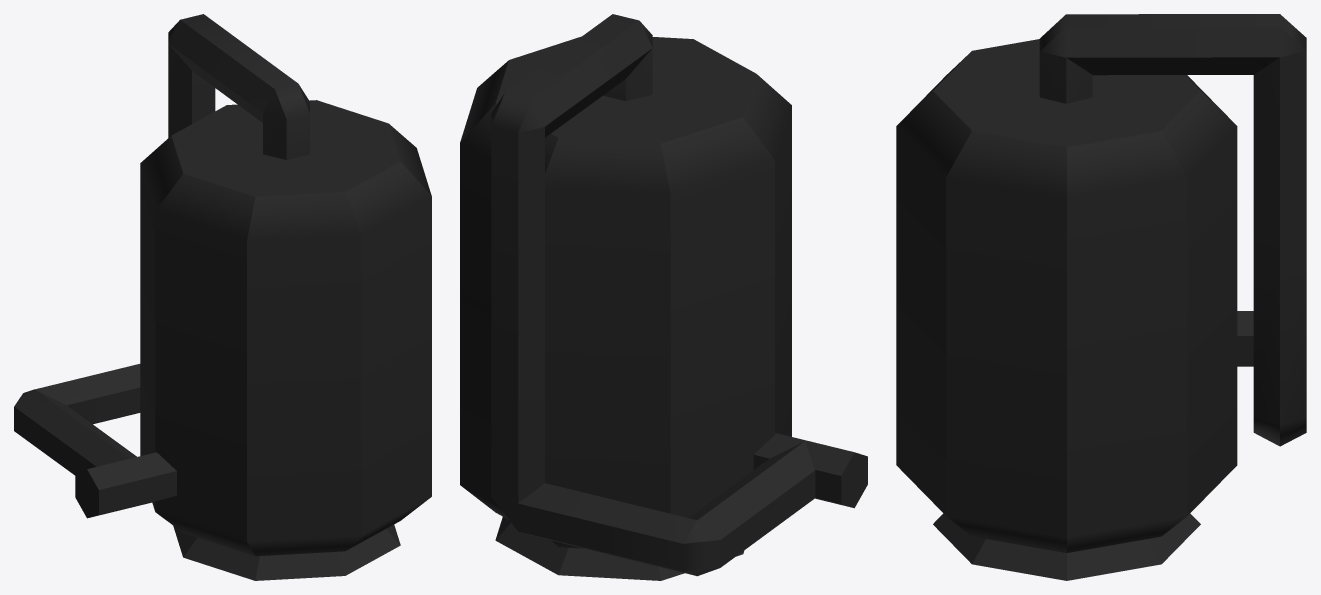
The model's file is f_boiler_room_boiler_standard.fbx.
The picture shows the model from 3 angles, left to right: view 1: azimuth 30°, elevation 25°; view 2: azimuth 150°, elevation 25°; view 3: azimuth 270°, elevation 25°; orthographic projection. The views are drawn at different scales.
Parts seen in each view (by area): view 1: Boiler_standard, pipe_long, Base, pipe_join; view 2: Boiler_standard, pipe_long, Base, pipe_join; view 3: Boiler_standard, pipe_long, Base.
Boxes of the visible parts, x1,y1,x2,y2 form: Boiler_standard: (140,100,431,556); pipe_long: (14,14,309,475); Base: (173,524,400,580); pipe_join: (75,452,176,518); Boiler_standard: (460,36,791,548); pipe_long: (491,14,815,576); Base: (495,517,743,580); pipe_join: (753,433,867,508); Boiler_standard: (896,39,1237,552); pipe_long: (1039,14,1306,446); Base: (933,513,1200,580).
Size of the model in its own units: 156 by 202 by 149.
1 material, 1 textured.
